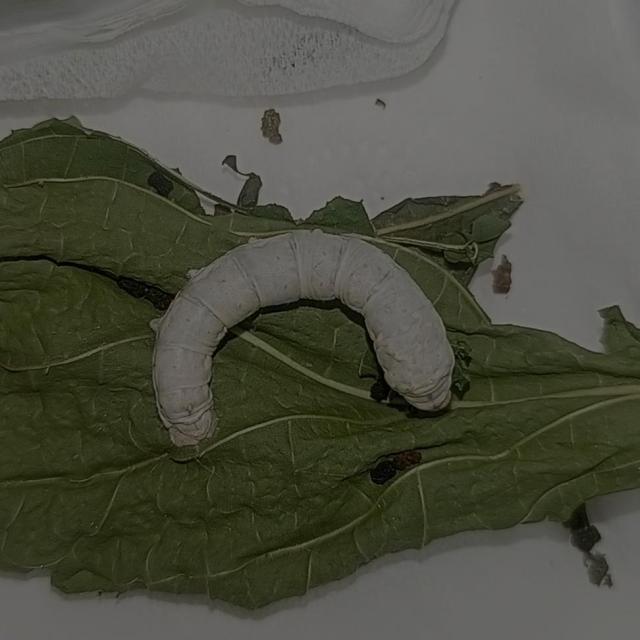Healthy: (125, 196, 481, 480)
